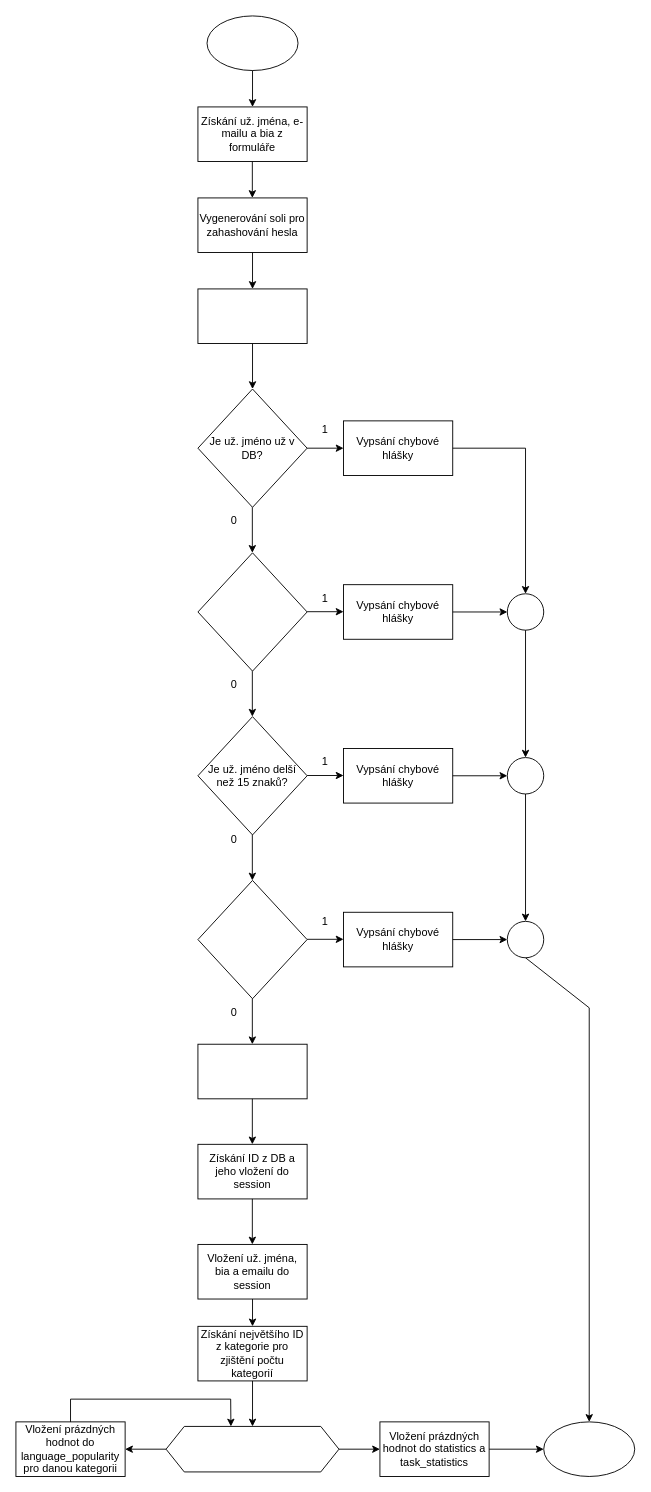
This 651x1492 diagram has some shape labels left out. The centre of each missing label's shape, as x and y in pixels:
"End" belongs at [589,1448].
"for i in range(0, počet kategorií)" belongs at [252,1449].
"Je E-Mail delší než 25 znaků?" belongs at [252,939].
"Je E-Mail už v DB?" belongs at [252,611].
"Start" belongs at [252,43].
"Vložení údajů o uživateli do DB" belongs at [252,1071].
"Zahashování hesla" belongs at [252,316].
